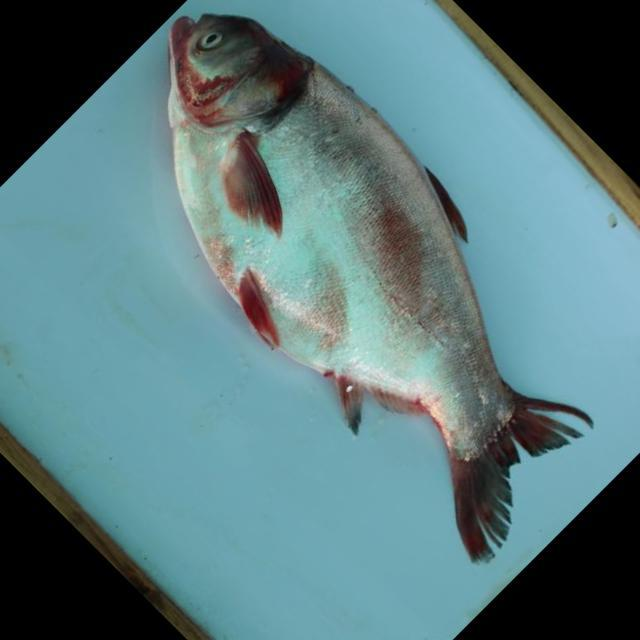SilverCarp: (158, 16, 620, 564)
